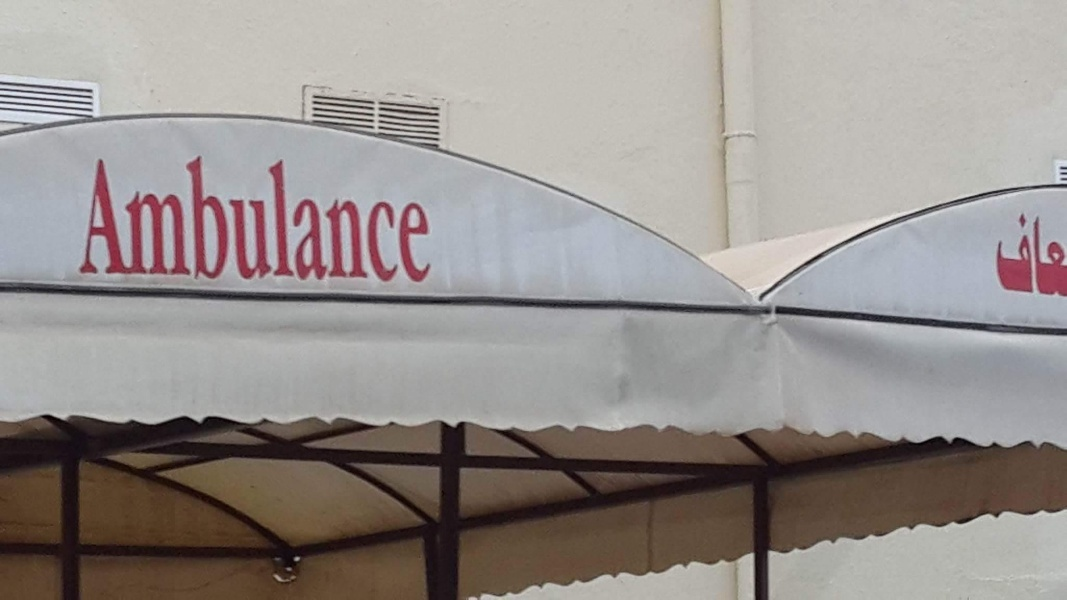text: (97, 154, 112, 284), (113, 154, 128, 284), (129, 154, 144, 284), (145, 154, 160, 284), (161, 154, 176, 284), (177, 154, 192, 284), (193, 154, 208, 284), (209, 154, 224, 284), (225, 154, 240, 284), (241, 154, 256, 284), (257, 154, 272, 284), (273, 154, 288, 284), (289, 154, 304, 284), (305, 154, 320, 284), (321, 154, 336, 284), (337, 154, 352, 284), (353, 154, 368, 284), (369, 154, 384, 284), (385, 154, 400, 284), (401, 154, 416, 284), (417, 154, 432, 284), (85, 154, 96, 284), (1009, 209, 1024, 301), (1025, 209, 1040, 301), (1041, 209, 1056, 301), (994, 209, 1008, 301), (1057, 209, 1067, 301), (433, 154, 434, 284)
